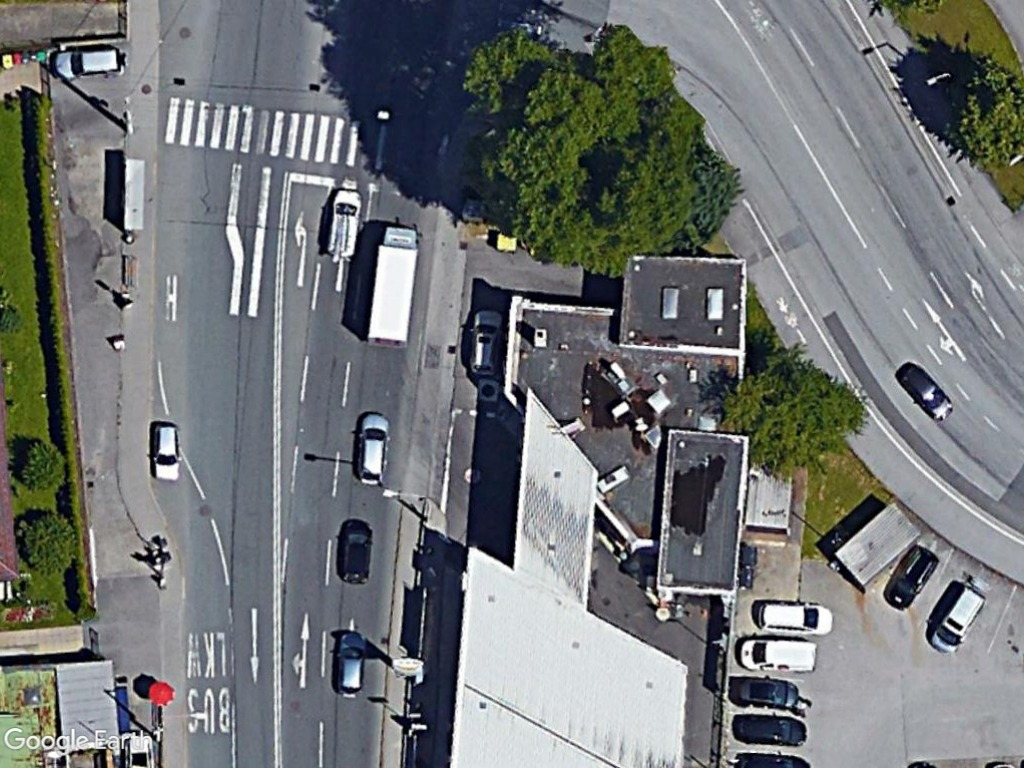car: (926, 579, 990, 656), (895, 359, 959, 426), (752, 595, 838, 640), (348, 404, 394, 488), (47, 39, 129, 84), (334, 515, 376, 591), (329, 623, 366, 699), (149, 417, 188, 486)
truck: (359, 220, 424, 352)
van: (731, 631, 825, 675)
